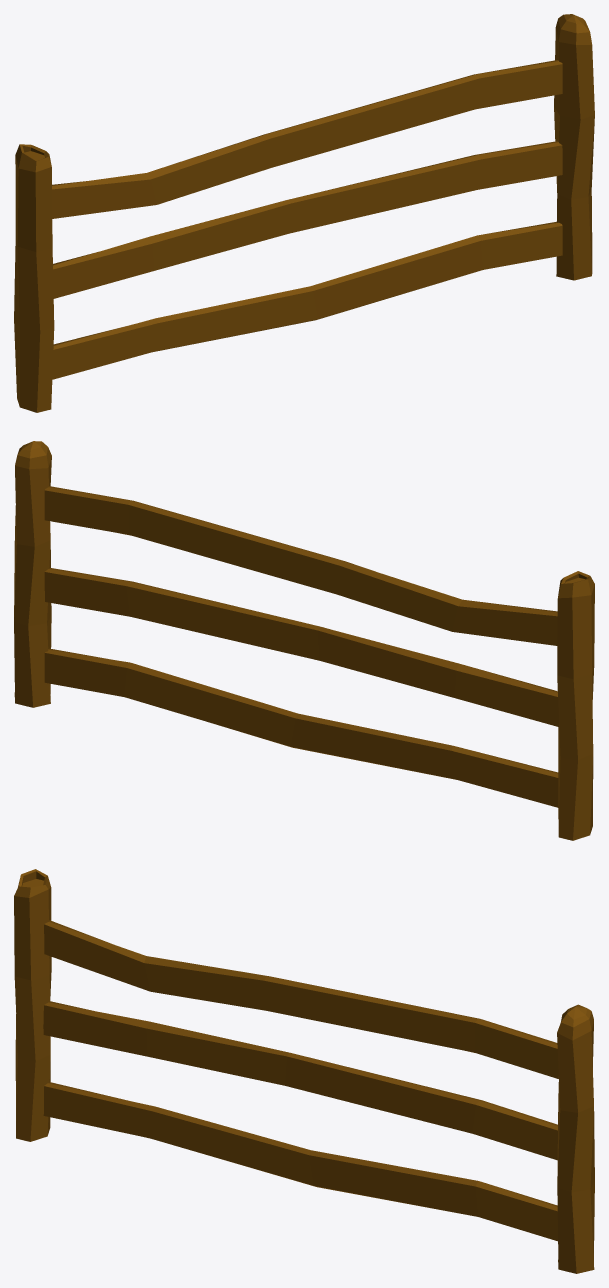
The model's file is Fence 2.fbx.
The picture shows the model from 3 angles, top to bottom: view 1: azimuth 30°, elevation 25°; view 2: azimuth 150°, elevation 25°; view 3: azimuth 330°, elevation 25°; orthographic projection.
Parts seen in each view (by area): view 1: Fence fill 1, Fence Post 1, Fence Post 2; view 2: Fence fill 1, Fence Post 1, Fence Post 2; view 3: Fence fill 1, Fence Post 2, Fence Post 1.
Boxes of the visible parts, x1=… form: Fence fill 1: x1=52, y1=60, x2=562, y2=379; Fence Post 1: x1=14, y1=144, x2=54, y2=412; Fence Post 2: x1=554, y1=14, x2=594, y2=280; Fence fill 1: x1=44, y1=486, x2=558, y2=807; Fence Post 1: x1=557, y1=571, x2=594, y2=840; Fence Post 2: x1=14, y1=441, x2=51, y2=707; Fence fill 1: x1=43, y1=920, x2=558, y2=1241; Fence Post 2: x1=557, y1=1004, x2=594, y2=1273; Fence Post 1: x1=14, y1=869, x2=51, y2=1141.
Bounding box in the file's own units: 798 × 341 × 52.96.
